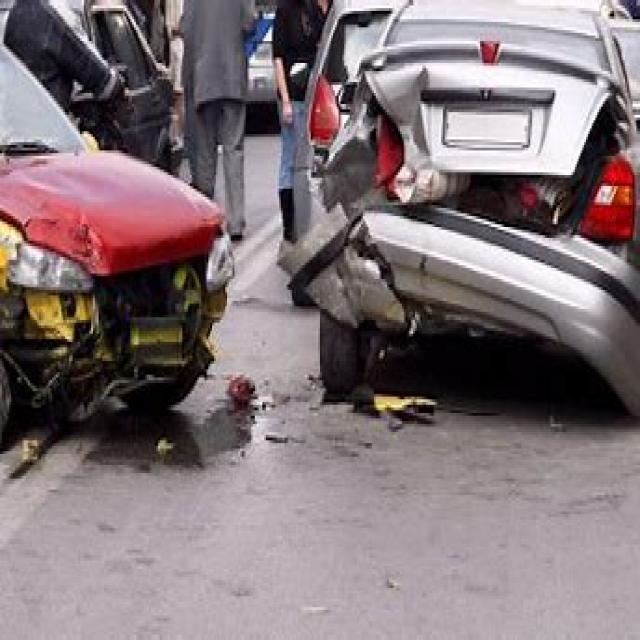Accident: (277, 39, 561, 371), (11, 154, 252, 450)
